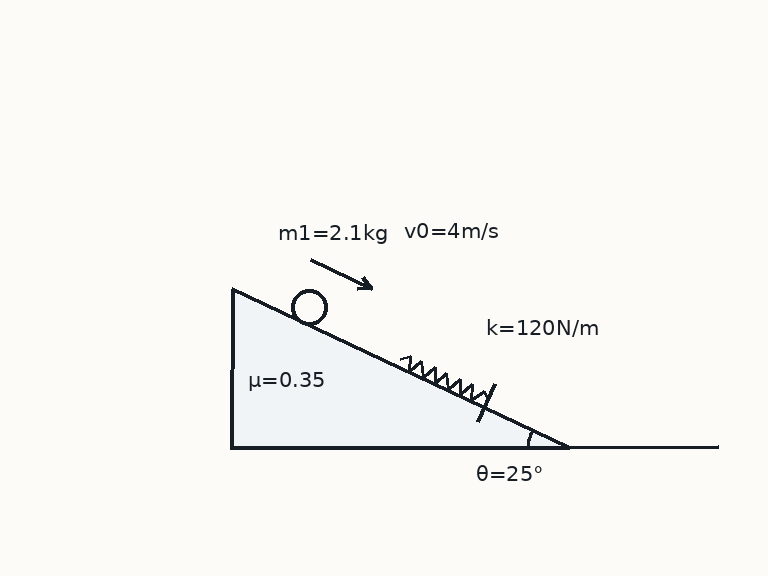ball: (289, 287, 329, 327)
ramp: (230, 288, 570, 449)
spring: (398, 353, 490, 402)
